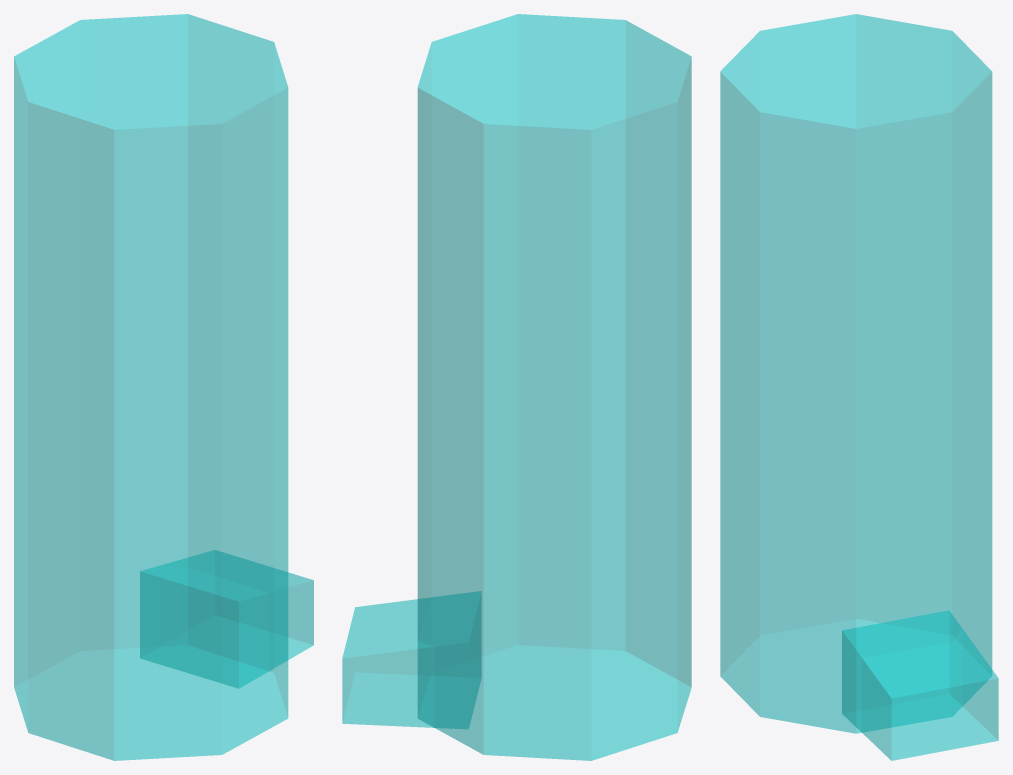
File: SM_Prop_Specimen_Tank_01_Collision_01.fbx
3 renders of one model, left to right at view 1: azimuth 30°, elevation 25°; view 2: azimuth 150°, elevation 25°; view 3: azimuth 270°, elevation 25°, orthographic. The views are drawn at different scales.
Visible parts, largest first — view 1: SM_Prop_Specimen_Tank_01_Collision_01; view 2: SM_Prop_Specimen_Tank_01_Collision_01; view 3: SM_Prop_Specimen_Tank_01_Collision_01.
Part boxes in pixels (bbox=[...]): SM_Prop_Specimen_Tank_01_Collision_01: bbox=[14, 14, 313, 760]; SM_Prop_Specimen_Tank_01_Collision_01: bbox=[342, 14, 691, 760]; SM_Prop_Specimen_Tank_01_Collision_01: bbox=[720, 14, 998, 760].
Bounding box in the file's own units: 142 × 281 × 117.
